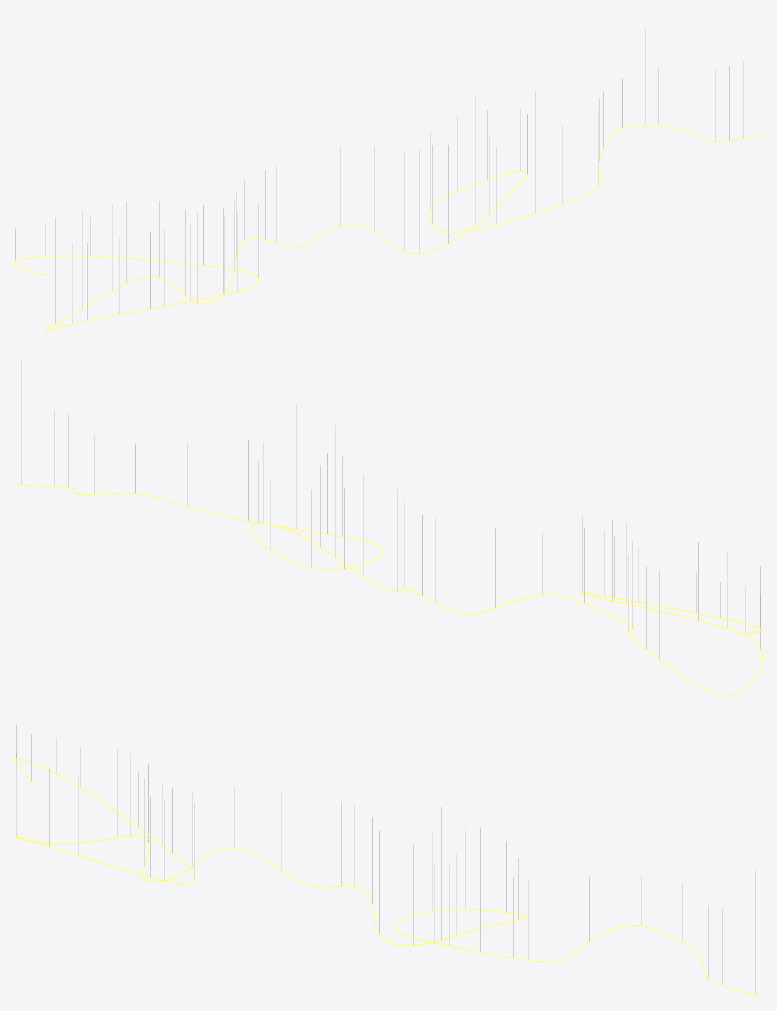
The model's file is light.glb.
3 renders of one model, top to bottom at view 1: azimuth 30°, elevation 25°; view 2: azimuth 150°, elevation 25°; view 3: azimuth 330°, elevation 25°, orthographic. The views are drawn at different scales.
Visible parts, largest first — view 1: suspend, light; view 2: suspend, light; view 3: suspend, light.
Boxes of the visible parts, x1,y1,x2,y2 form: suspend: (15, 28, 743, 323); light: (14, 124, 762, 331); suspend: (21, 360, 760, 658); light: (14, 483, 762, 696); suspend: (16, 725, 755, 994); light: (14, 758, 762, 996).
Size of the model in its own units: 14.36 by 2.8 by 1.49.
